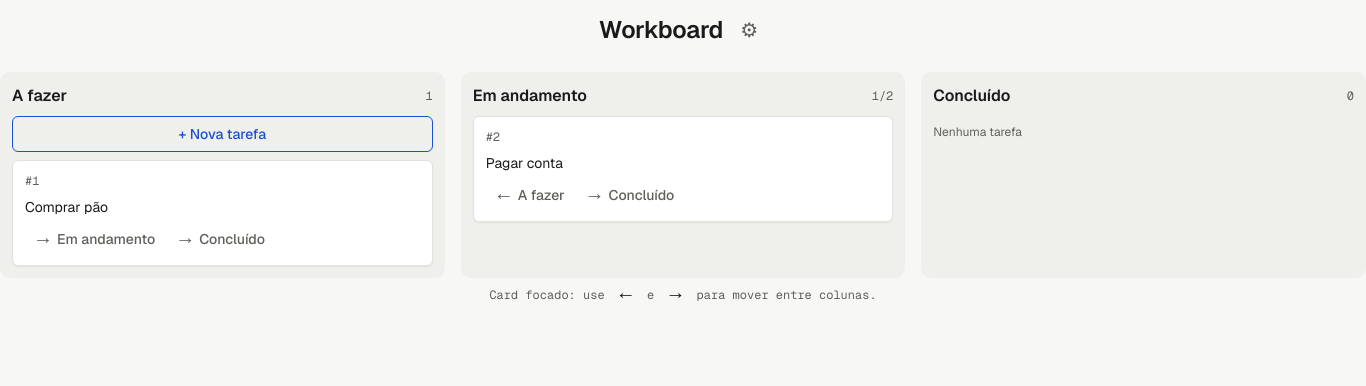
BoardView › changes the limit from the settings panel and confirms it
Click the button named "Configurações do quadro".
click(749, 30)  # box [731,12,767,48]
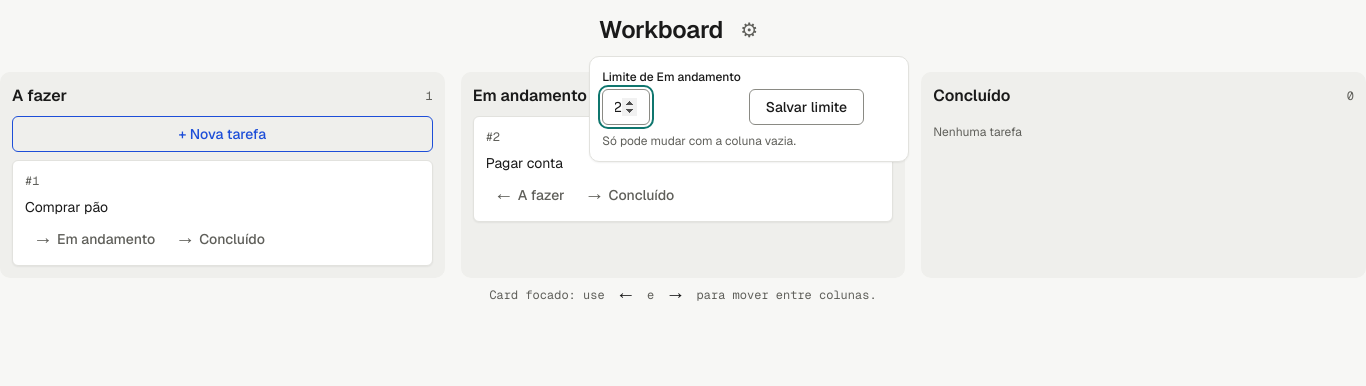
Replace the text in the number field labelled "Limite de Em andamento" with "3" at (626, 107), box [602,89,650,125]
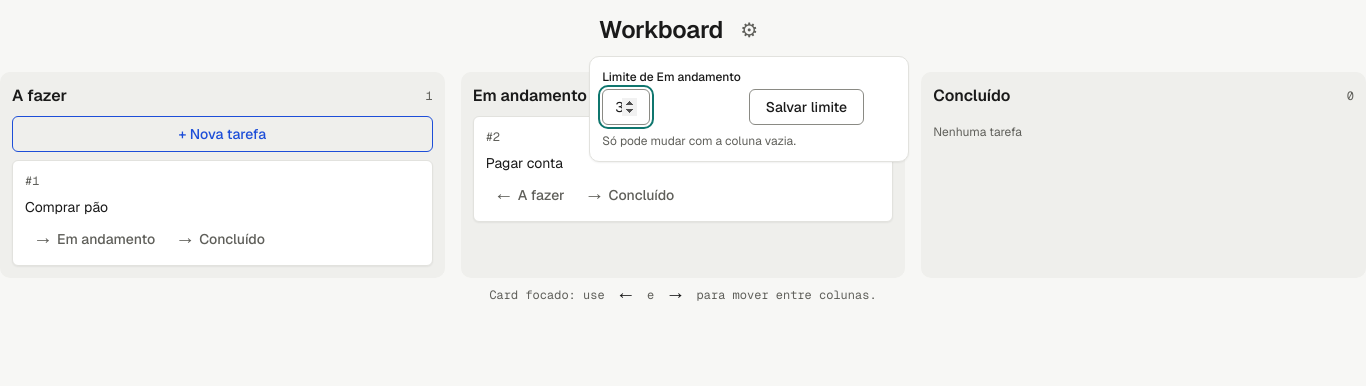
Click the button "Salvar limite".
click(806, 107)  # box [749,89,864,125]
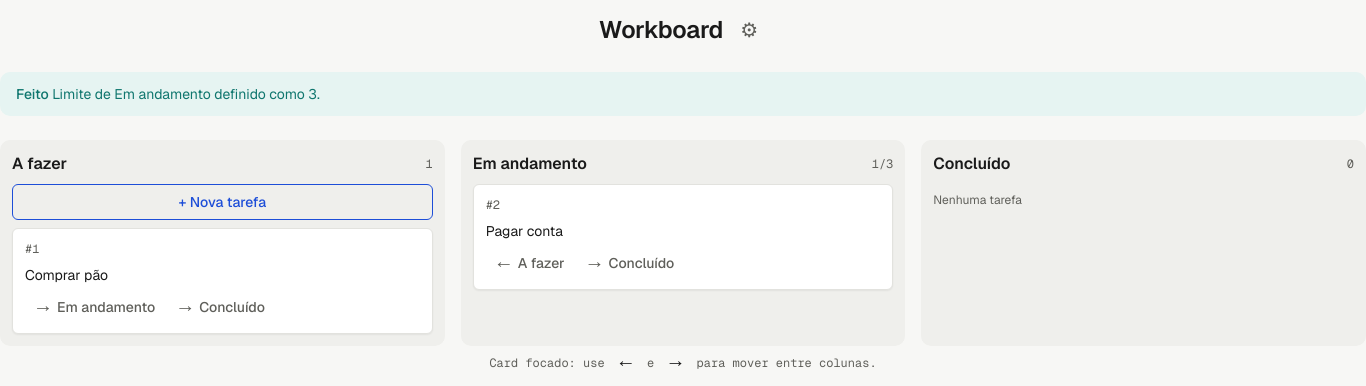
expect the message shows "Limite de Em andamento definido como 3.": met, box [52,85,320,103]
